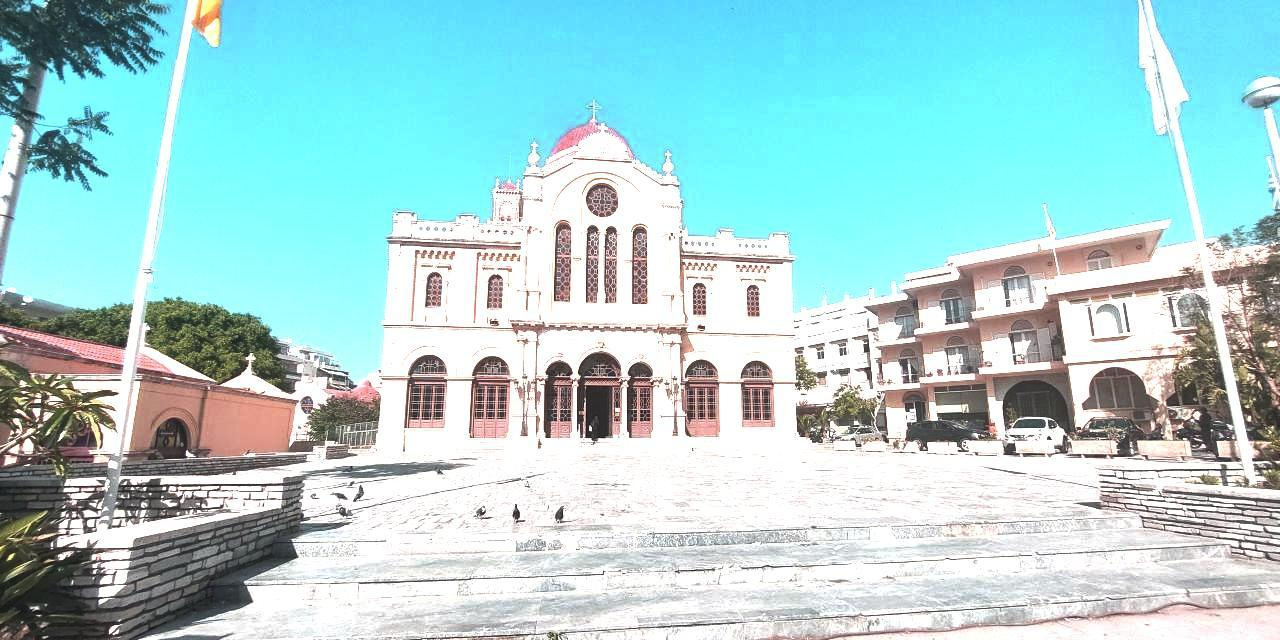Agios Minas: (368, 98, 811, 451)
